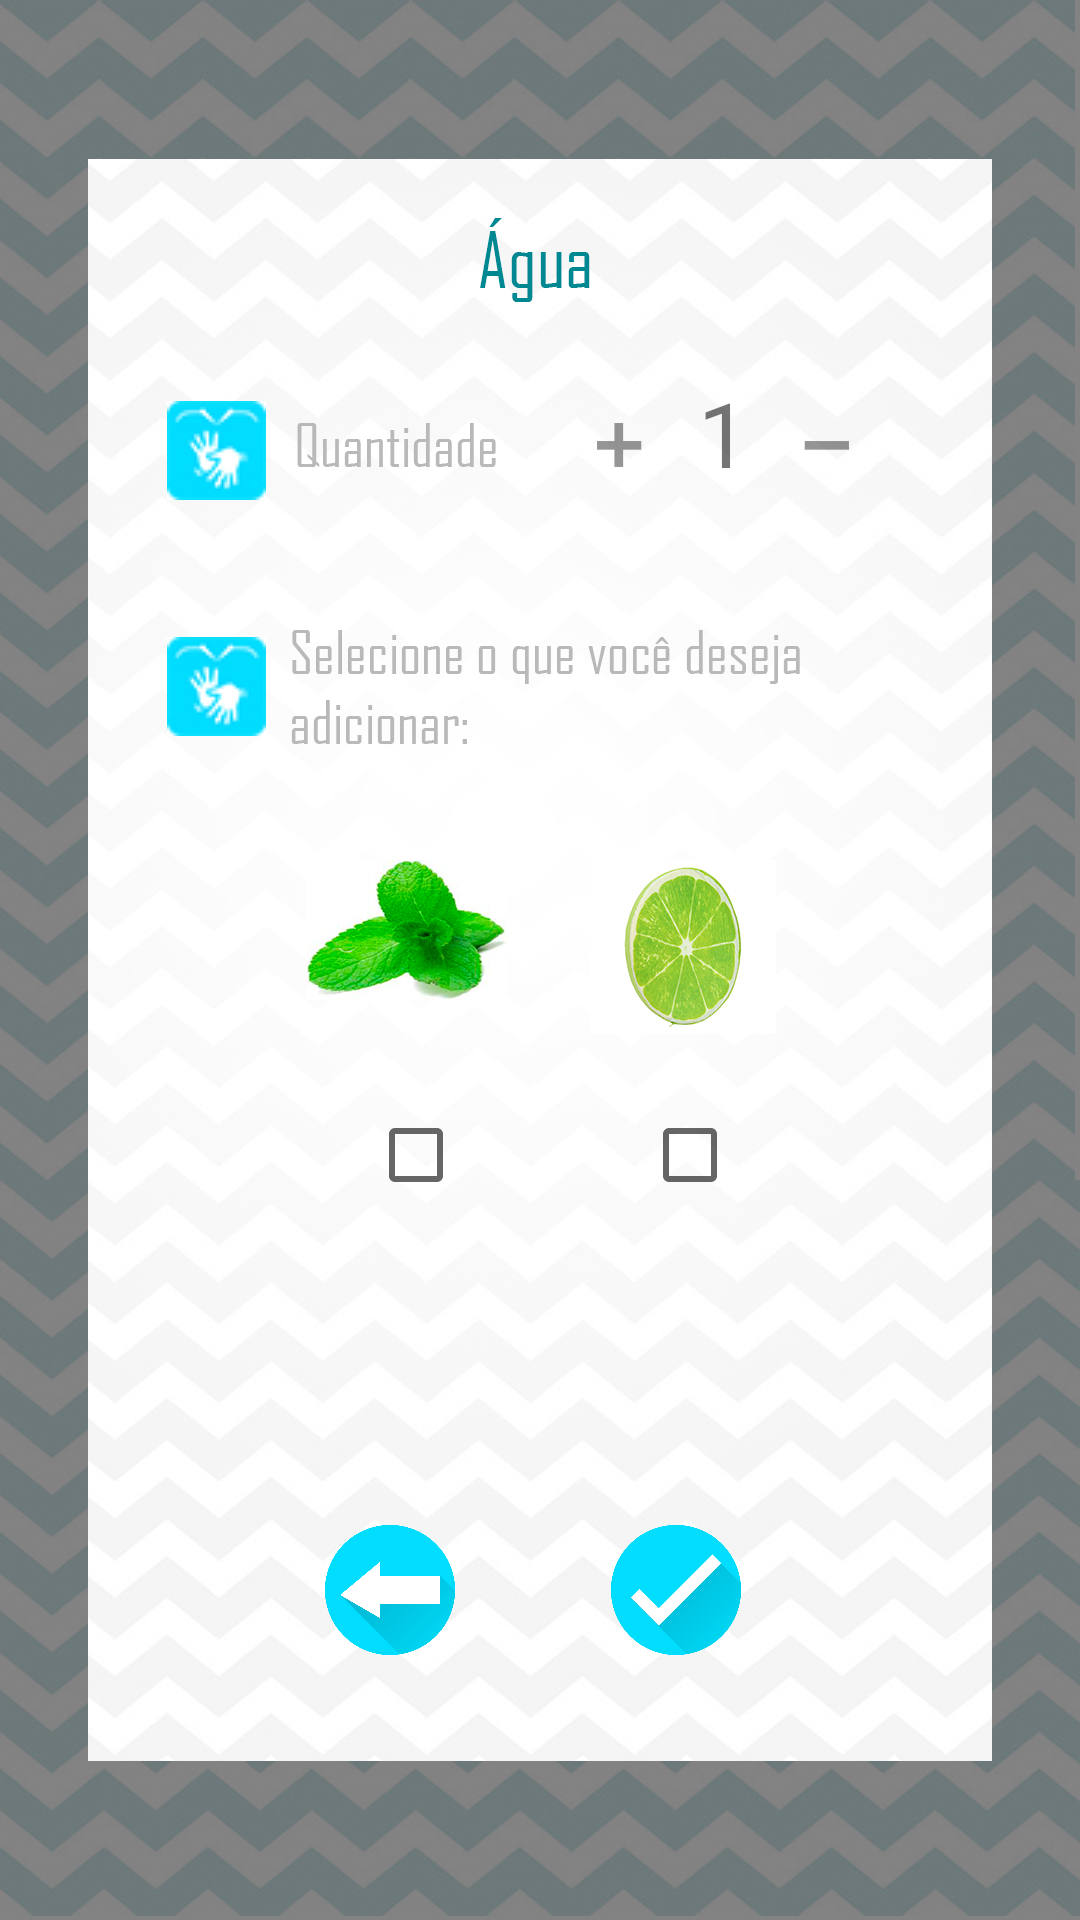

Where to tap for icons on this 1080px x 1920px app screen, as (x=x, y=y):
checkcircle: (x=676, y=1590)
seta: (x=390, y=1590)
